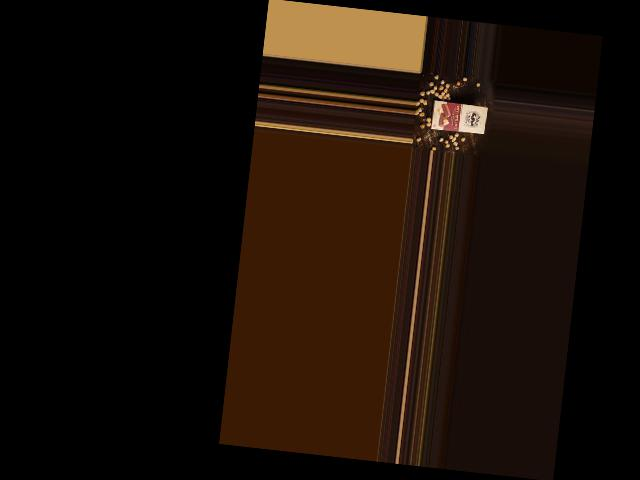chocolate: (429, 97, 489, 136)
